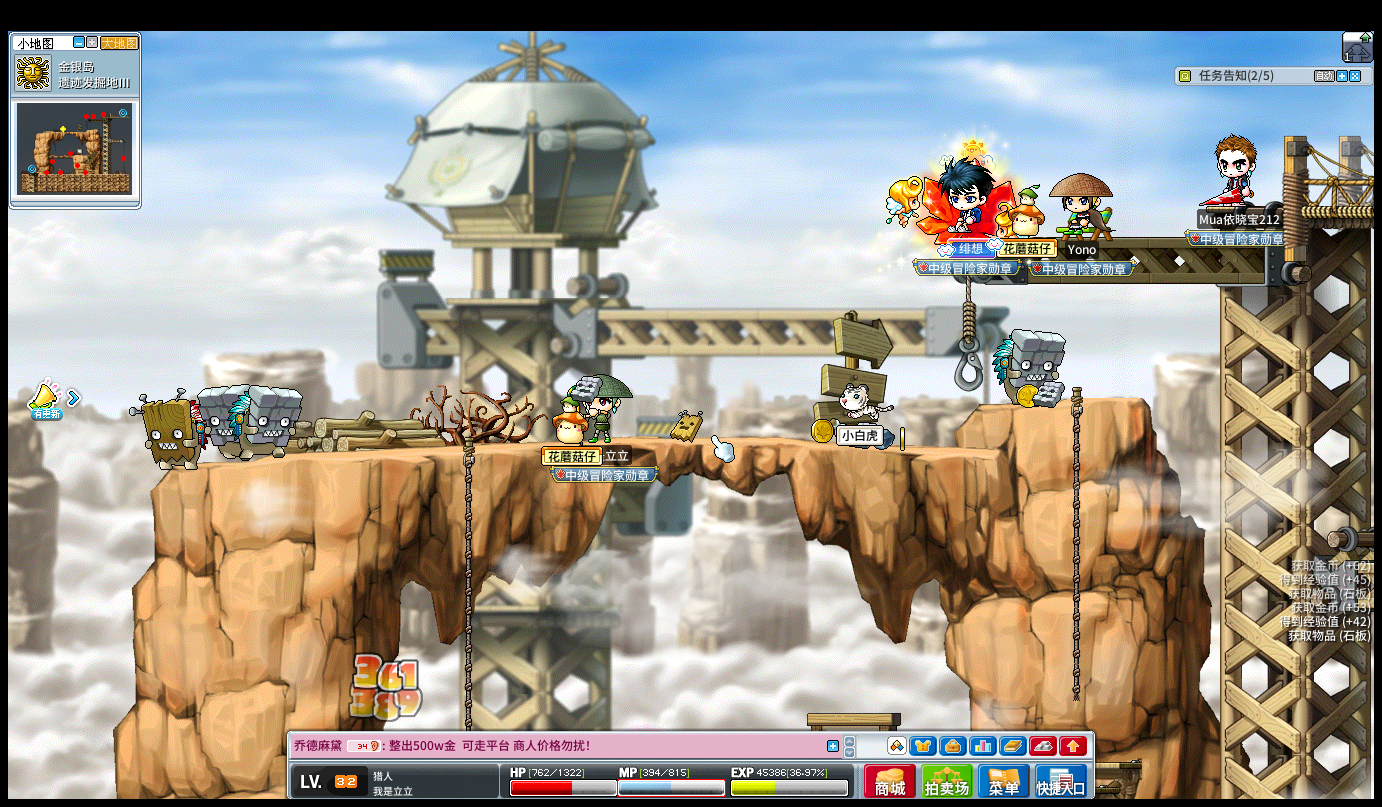floor: (175, 432, 1036, 457), (971, 391, 1148, 407)
monster: (993, 329, 1067, 407), (228, 383, 302, 461), (135, 390, 207, 469)
rope: (461, 435, 475, 779), (1068, 379, 1083, 697), (463, 432, 475, 696)
